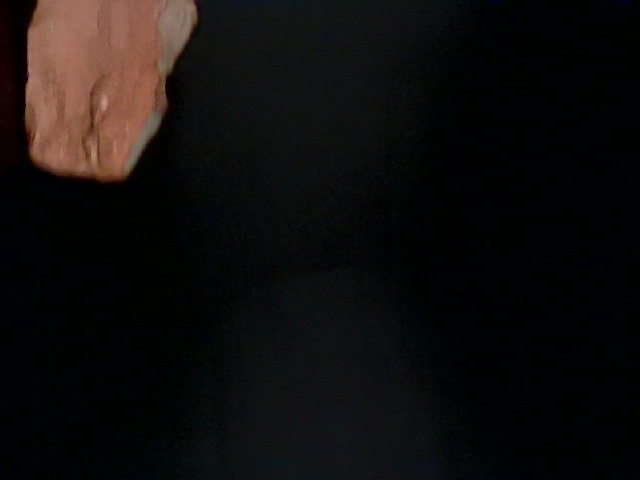KHSLJ: (1, 249, 268, 474)
